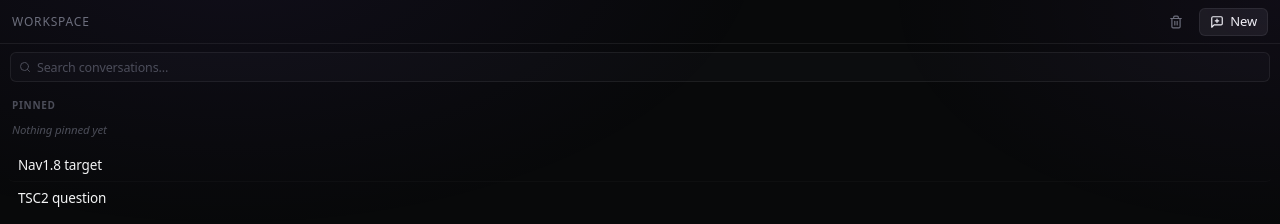
Test: HistoryRail search › filters conversations by title substring (case-insensitive)
The width and height of the screenshot is (1280, 224).
Type "tsc2" into the field with placeholder "Search conversations…" at (649, 67), box [37, 53, 1261, 81]
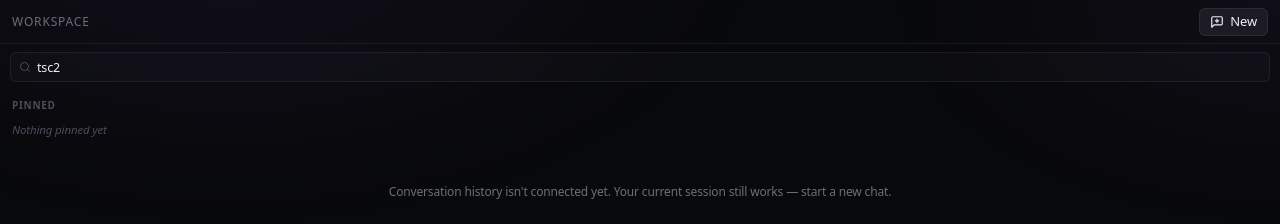
Expected: the button "Nav1.8 target" is gone
